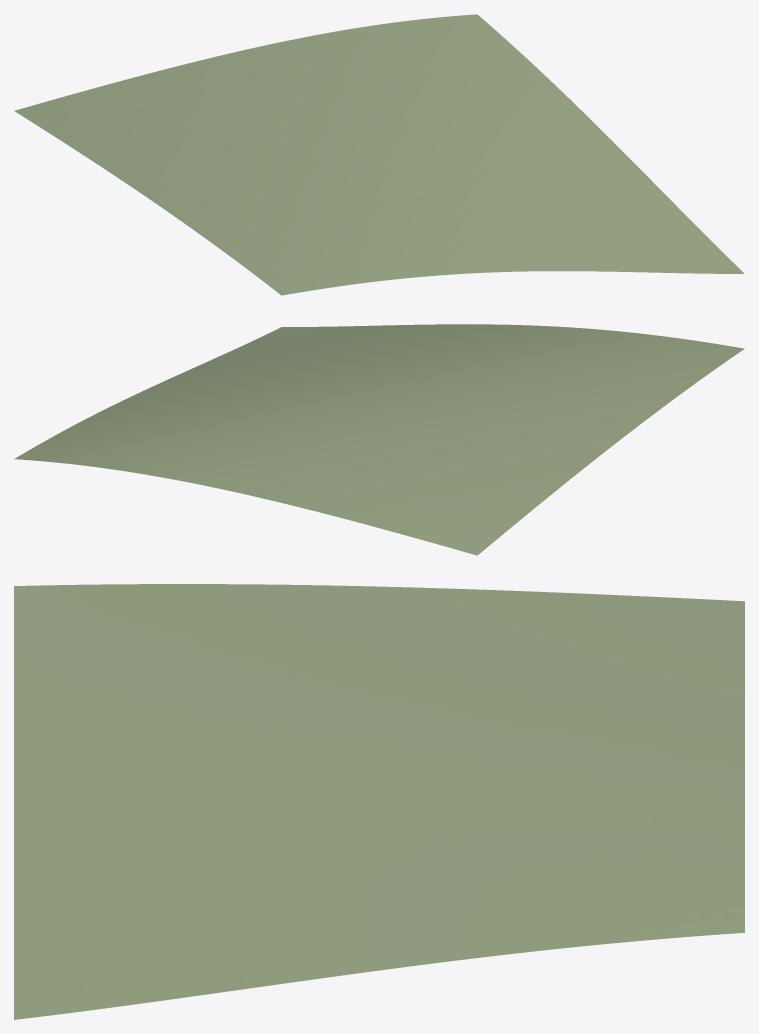
File: expanse-6-24.glb
3 renders of one model, top to bottom at view 1: azimuth 30°, elevation 25°; view 2: azimuth 150°, elevation 25°; view 3: azimuth 270°, elevation 25°, orthographic. The views are drawn at different scales.
Visible parts, largest first — view 1: expanse-6-24; view 2: expanse-6-24; view 3: expanse-6-24.
Part boxes in pixels (x1,y1,x2,y2): expanse-6-24: [14, 14, 744, 295]; expanse-6-24: [14, 324, 744, 555]; expanse-6-24: [14, 584, 744, 1019].
Size of the model in its own units: 256 by 49.08 by 256.
